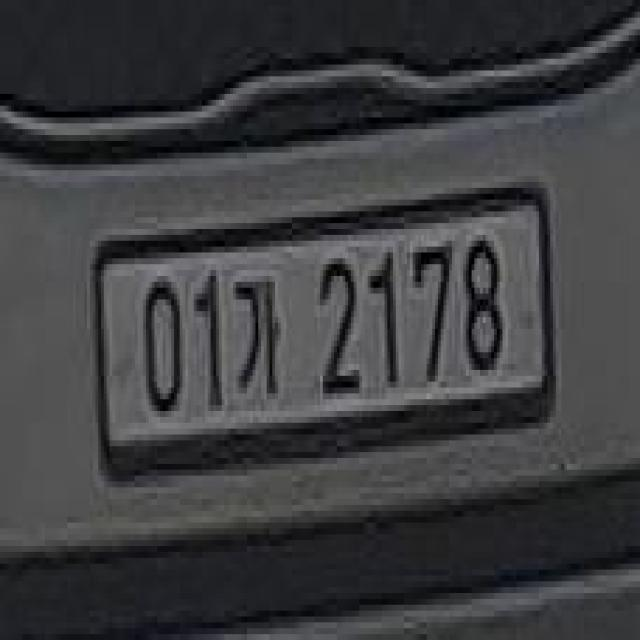illegal_plate: (94, 186, 553, 478)
